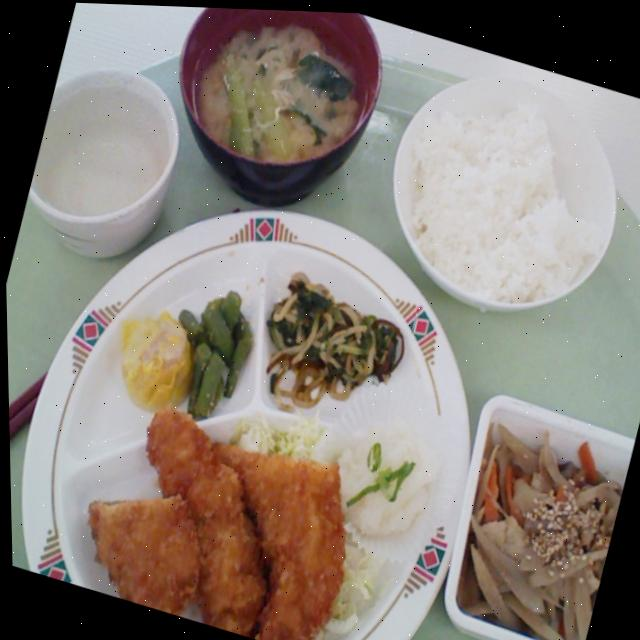带馅早点: (97, 295, 207, 422)
米饭主食: (367, 40, 640, 337)
